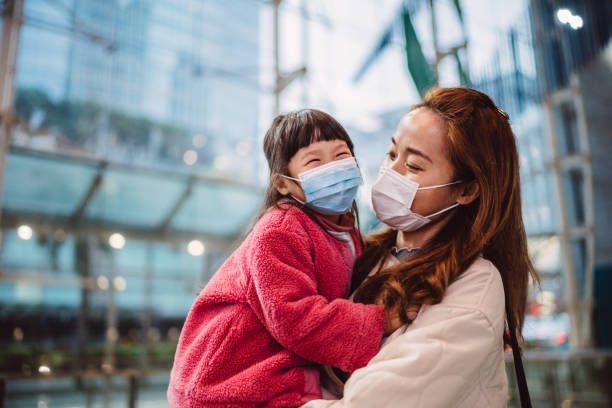mask: (369, 87, 498, 238), (262, 106, 363, 219)
person: (178, 101, 364, 408), (367, 83, 522, 408)
